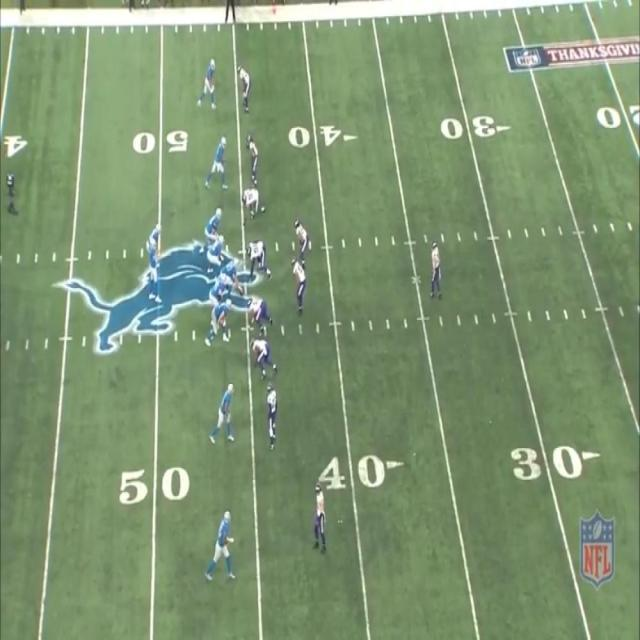center: (226, 254, 244, 295)
db: (313, 480, 328, 547), (264, 383, 281, 441), (432, 241, 442, 298), (239, 66, 251, 110), (248, 135, 259, 181)
lb: (292, 258, 306, 306), (296, 220, 309, 260)
qb: (148, 253, 160, 297)
